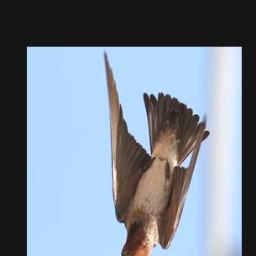Swallow: (104, 50, 210, 256)
